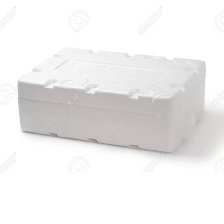foam_box: (12, 41, 209, 157)
